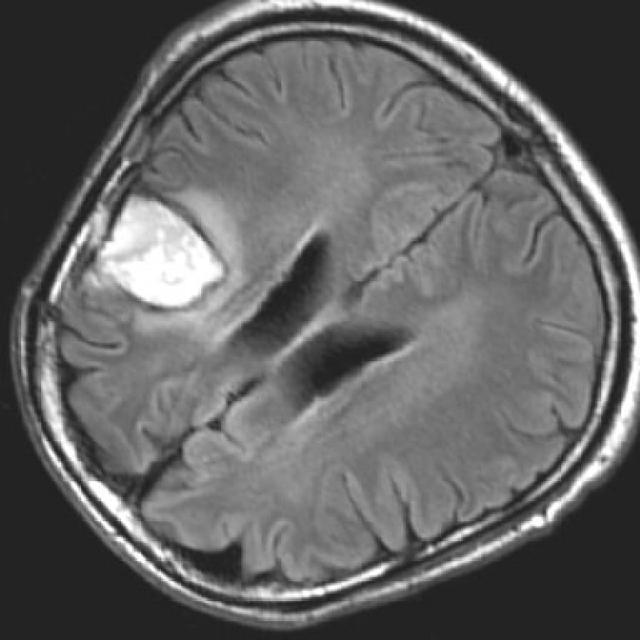Brain-Tumor: (83, 173, 248, 335)
